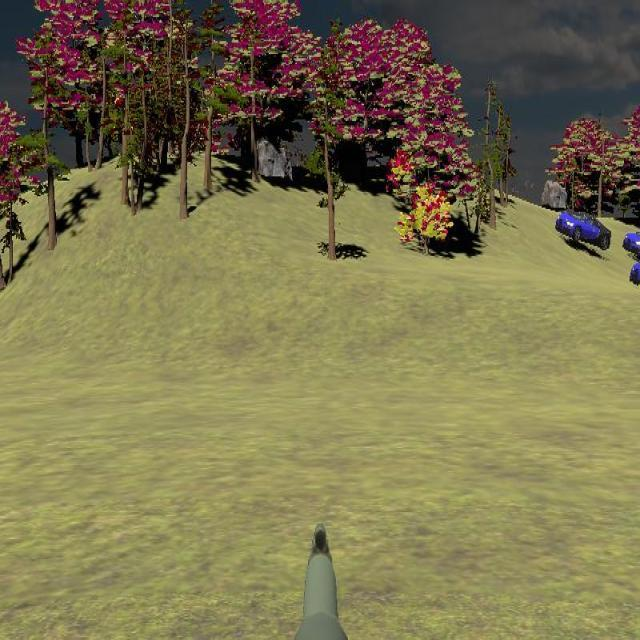car: (555, 208, 611, 251), (622, 227, 640, 262), (629, 254, 640, 292)
